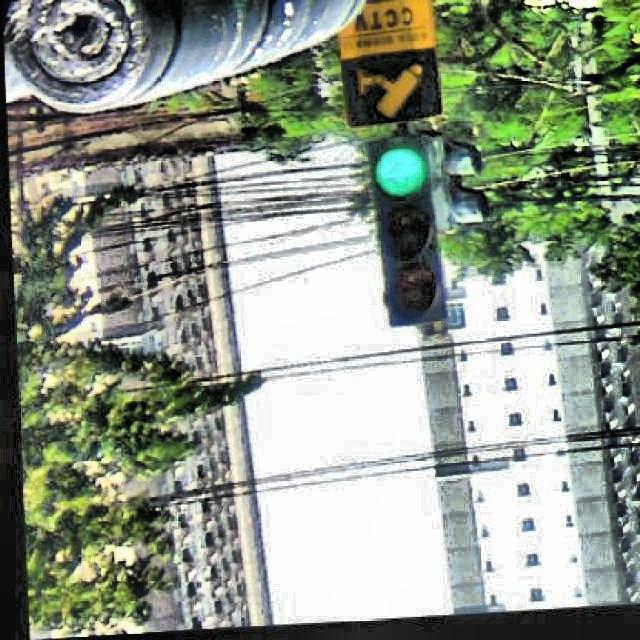green: (363, 133, 450, 324)
